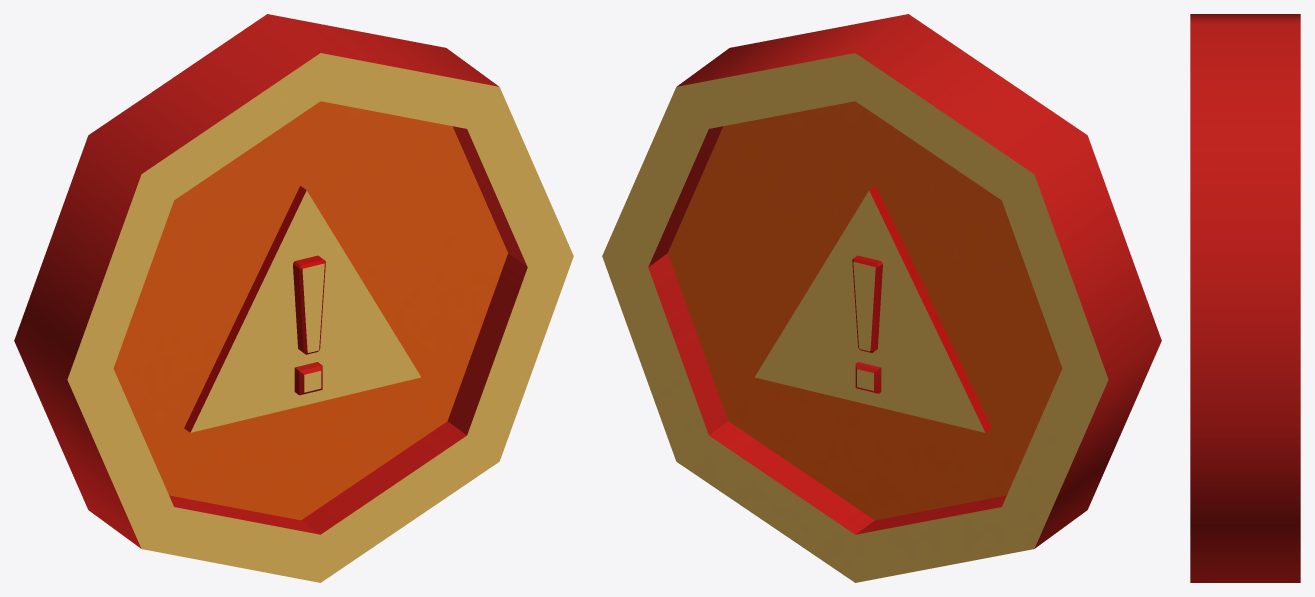
The model's file is DM_Coin.fbx.
3 views of the same model, side by side, from view 1: azimuth 30°, elevation 25°; view 2: azimuth 150°, elevation 25°; view 3: azimuth 270°, elevation 25° (orthographic). The views are drawn at different scales.
Visible parts, largest first — view 1: SM_MonedaHP01; view 2: SM_MonedaHP01; view 3: SM_MonedaHP01.
Boxes of the visible parts, x1=… form: SM_MonedaHP01: x1=14, y1=14, x2=573, y2=582; SM_MonedaHP01: x1=602, y1=14, x2=1161, y2=582; SM_MonedaHP01: x1=1190, y1=14, x2=1300, y2=582.
Size of the model in its own units: 35.18 by 35.18 by 6.41.
